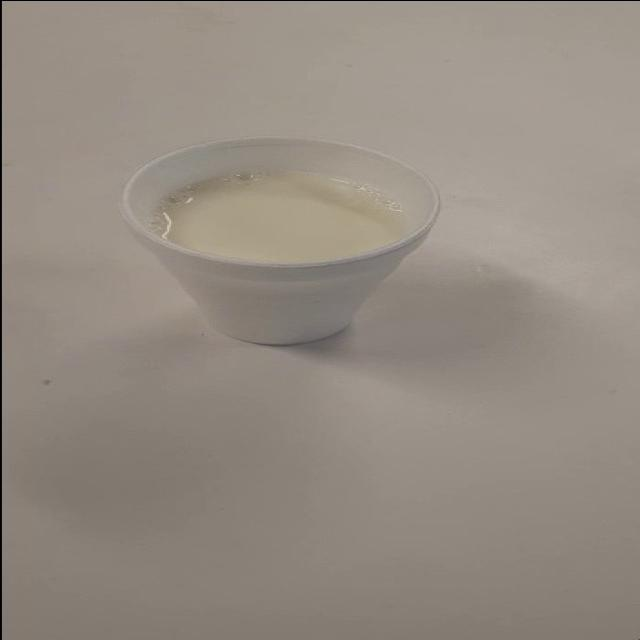milk: (120, 120, 496, 366)
